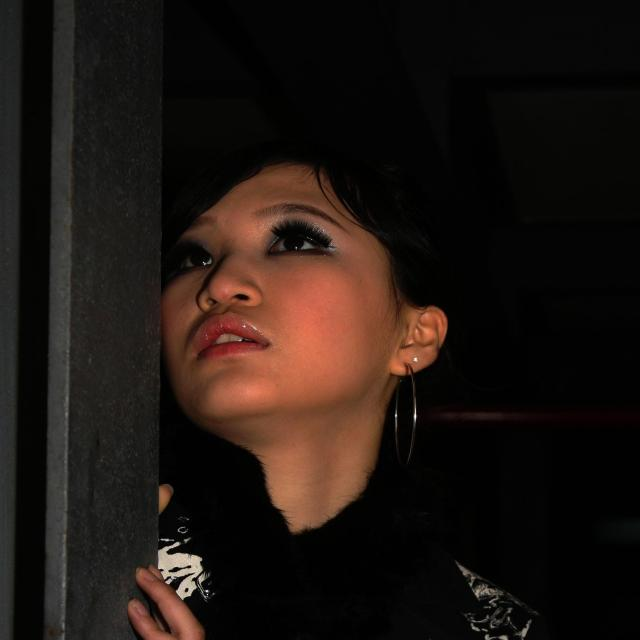no-glass: (167, 233, 345, 270)
